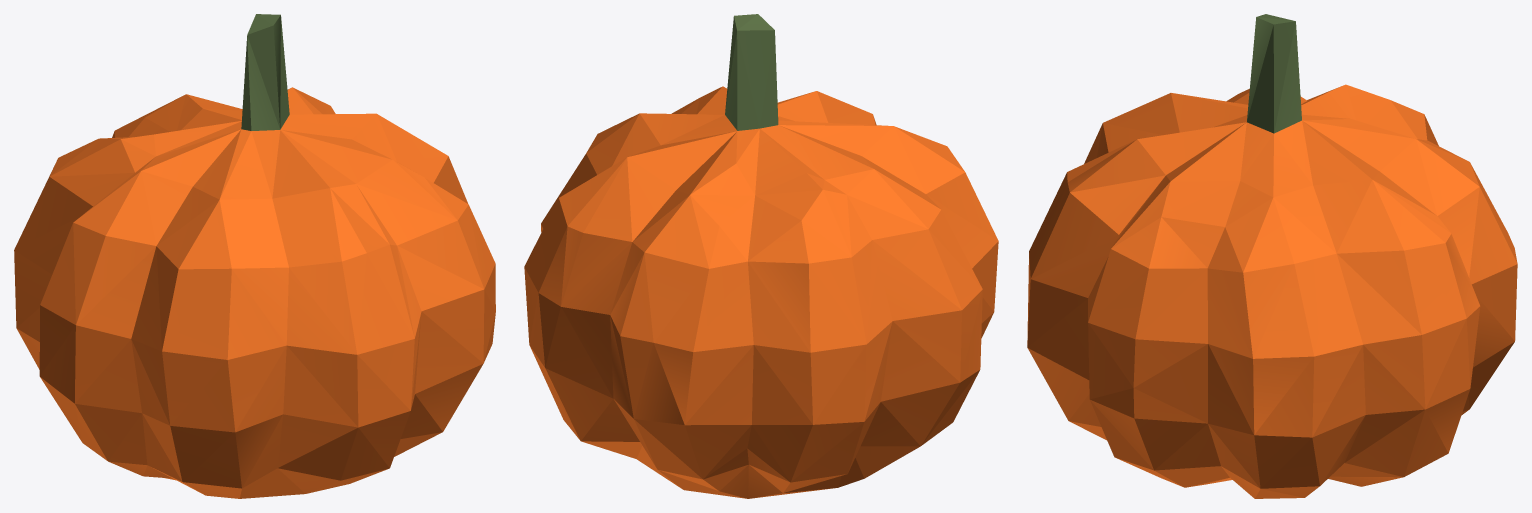
The model's file is EA_Prop_Vegetable_Pumpkin_01a_PRE.glb.
The picture shows the model from 3 angles, left to right: view 1: azimuth 30°, elevation 25°; view 2: azimuth 150°, elevation 25°; view 3: azimuth 270°, elevation 25°; orthographic projection. The views are drawn at different scales.
Parts seen in each view (by area): view 1: EA_Prop_Vegetable_Pumpkin_01a; view 2: EA_Prop_Vegetable_Pumpkin_01a; view 3: EA_Prop_Vegetable_Pumpkin_01a.
Boxes of the visible parts, bbox=[...] form: EA_Prop_Vegetable_Pumpkin_01a: bbox=[14, 14, 495, 498]; EA_Prop_Vegetable_Pumpkin_01a: bbox=[524, 14, 998, 498]; EA_Prop_Vegetable_Pumpkin_01a: bbox=[1027, 14, 1517, 498].
Bounding box in the file's own units: 0.9414 × 0.9353 × 0.9334.
Materials: 1 (1 with a texture image).
